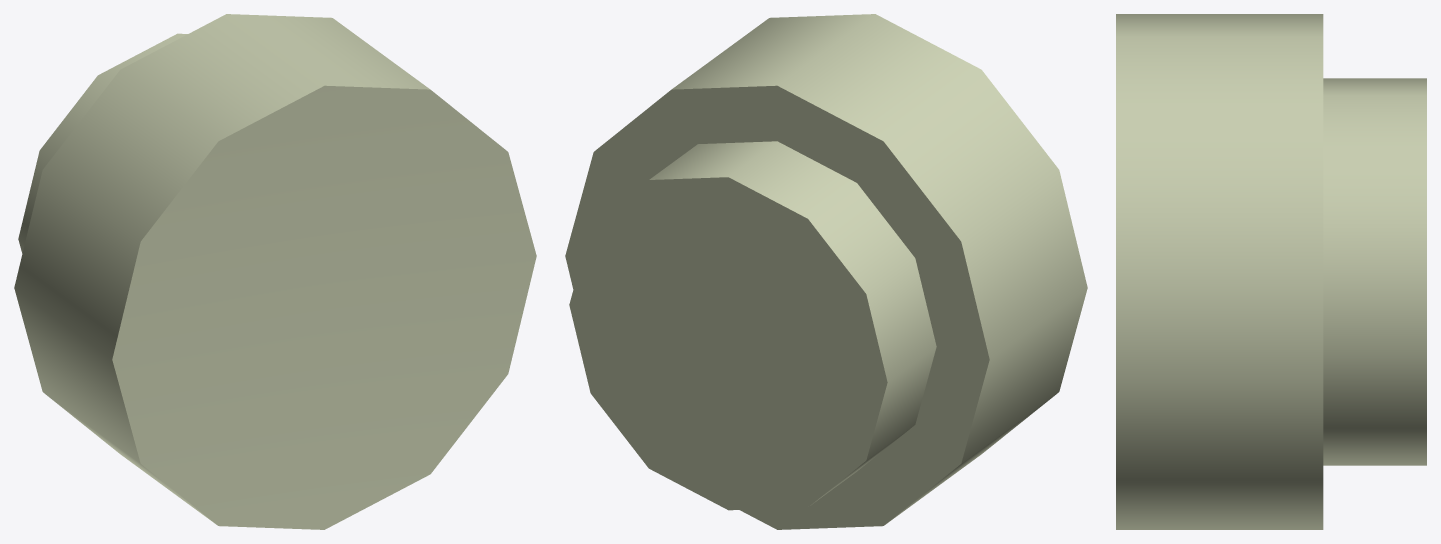
The model's file is vega_solar_srf_1_base.obj.
3 renders of one model, left to right at view 1: azimuth 30°, elevation 25°; view 2: azimuth 150°, elevation 25°; view 3: azimuth 270°, elevation 25°, orthographic. The views are drawn at different scales.
Parts seen in each view (by area): view 1: vega_solar_srf_1_base; view 2: vega_solar_srf_1_base; view 3: vega_solar_srf_1_base.
Boxes of the visible parts, <box> form: vega_solar_srf_1_base: <box>14,14,536,529</box>; vega_solar_srf_1_base: <box>565,14,1087,529</box>; vega_solar_srf_1_base: <box>1116,14,1426,529</box>.
Bounding box in the file's own units: 0.125 × 0.125 × 0.075.
